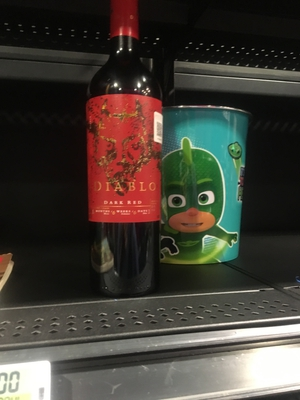diablo dark red: (71, 18, 180, 314)
